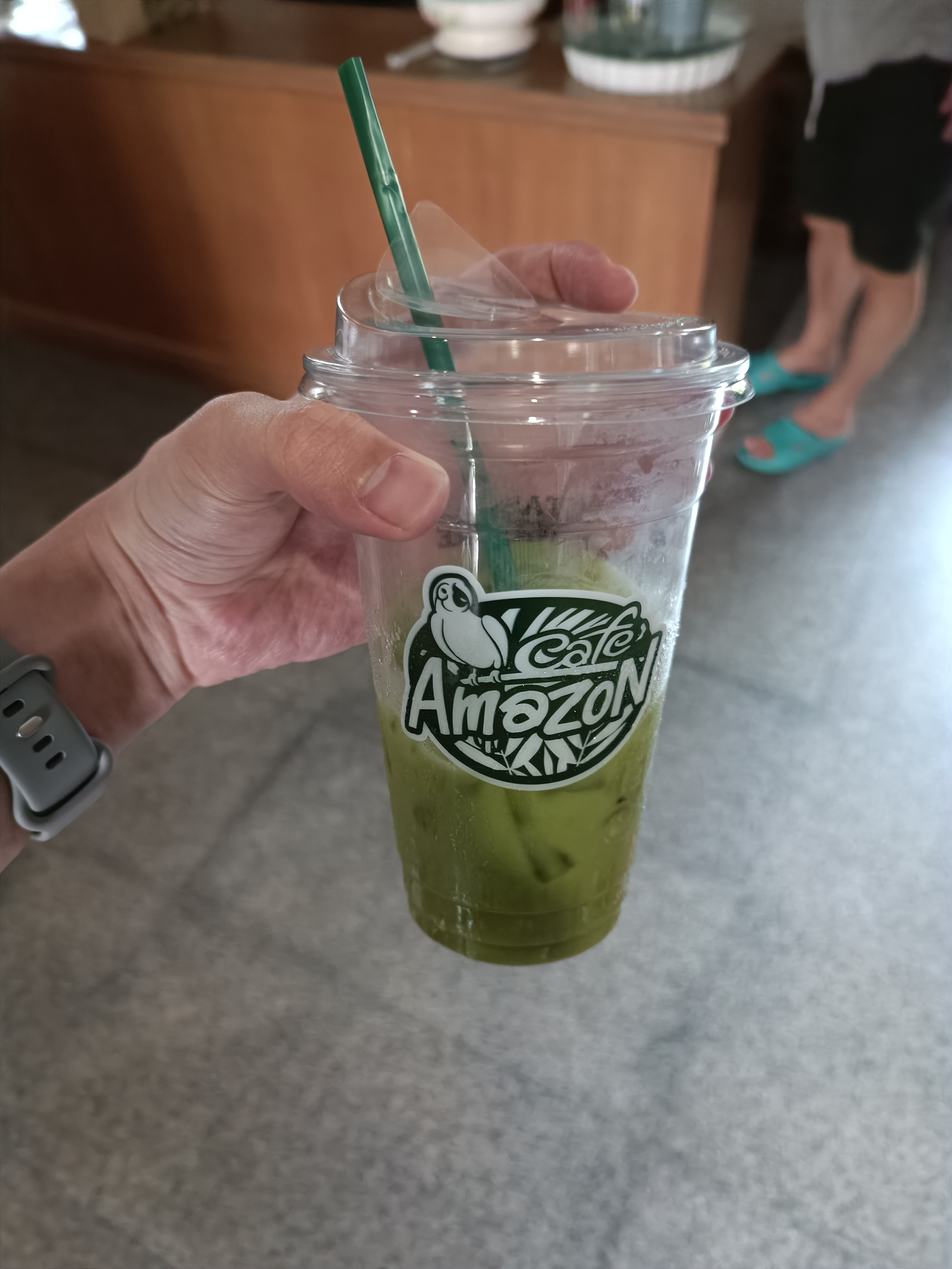plastic: (284, 48, 768, 994)
